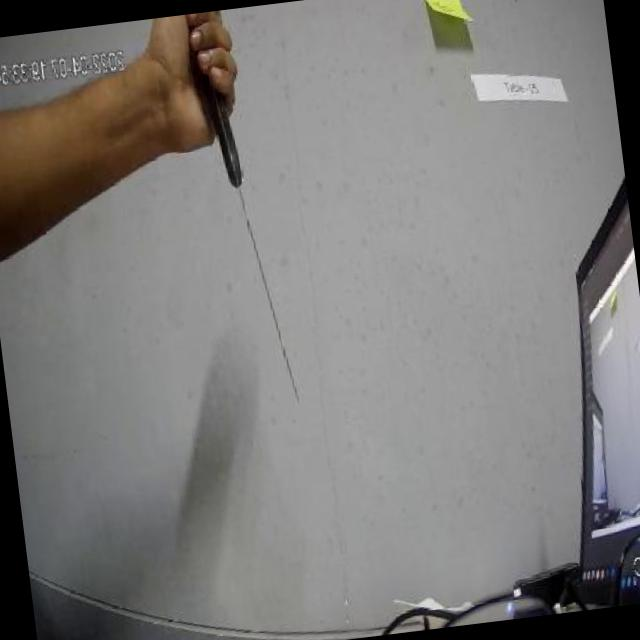knife: (183, 12, 307, 420)
